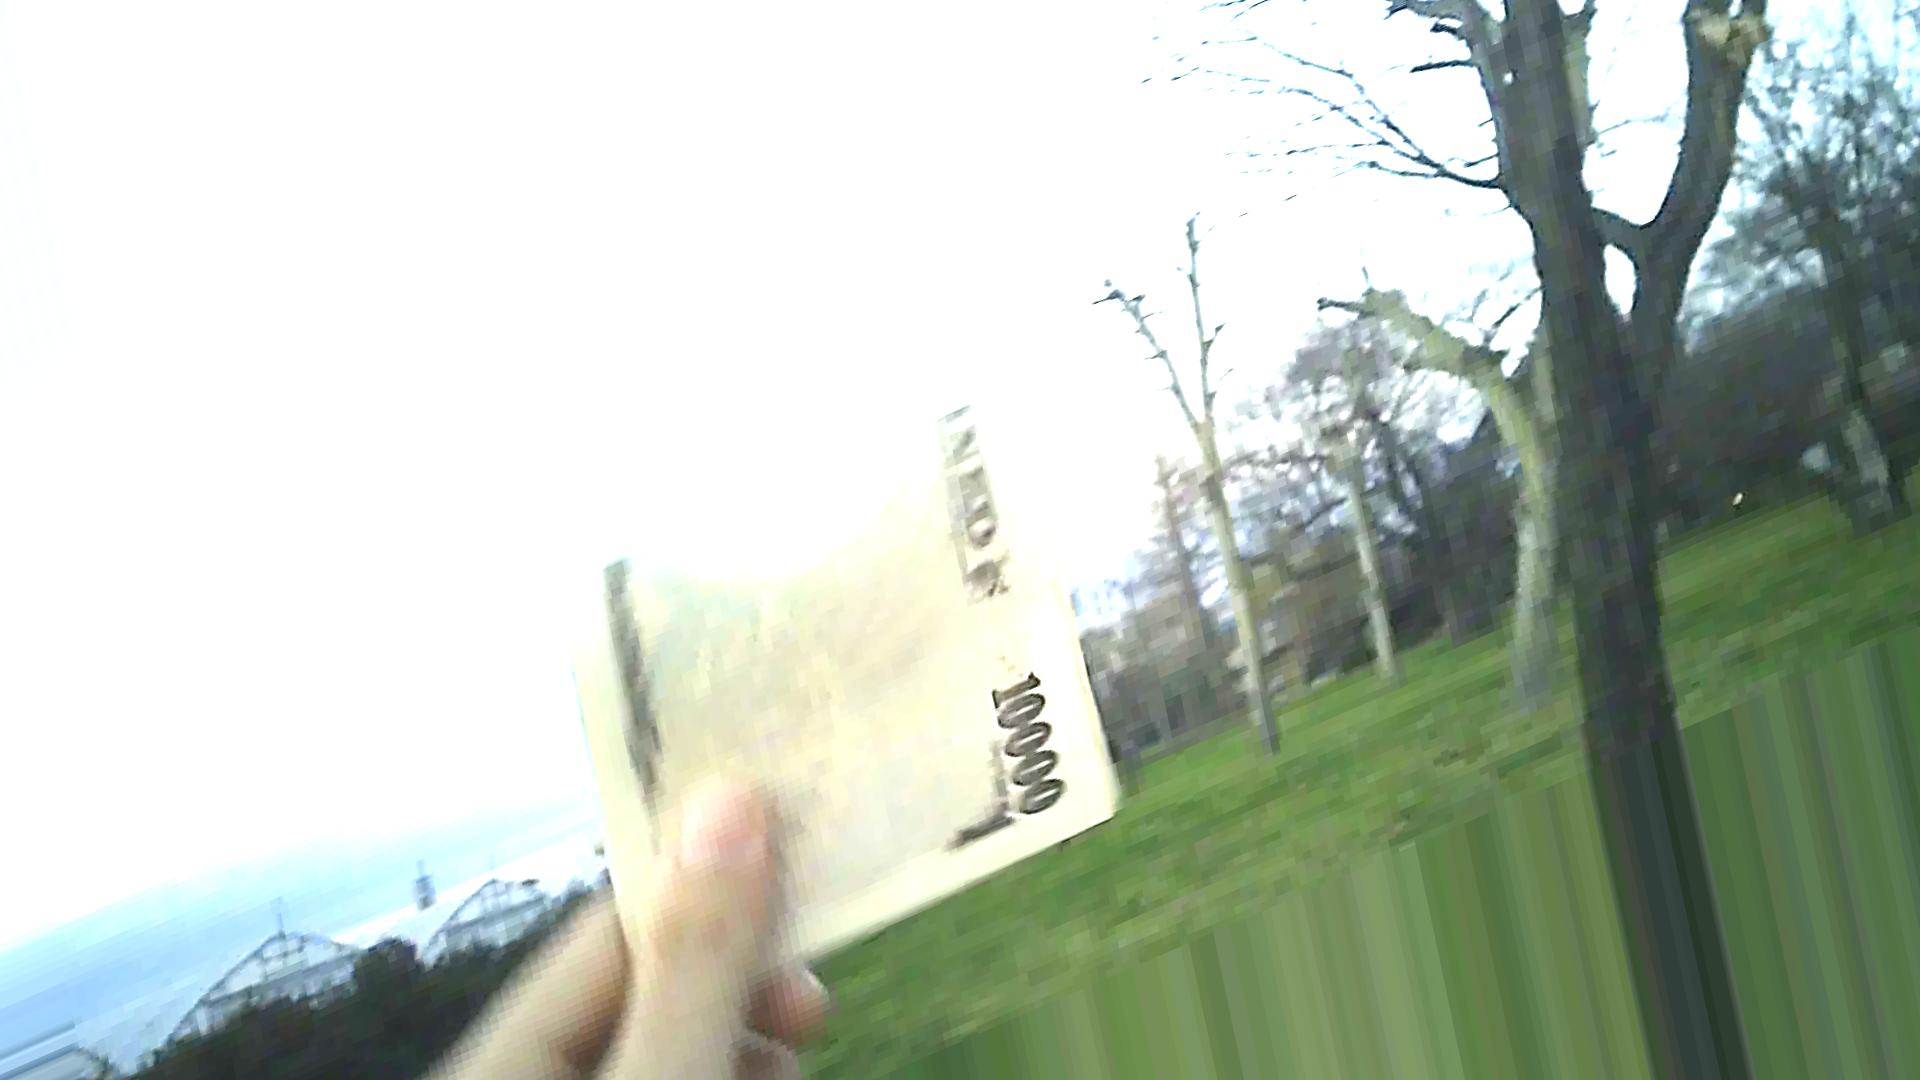10,000 Yen: (568, 400, 1110, 980)
